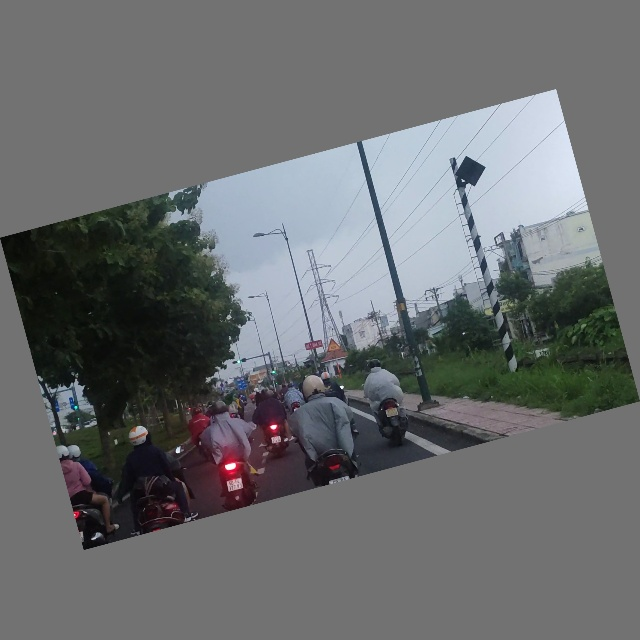W.210: (324, 336, 342, 354)
